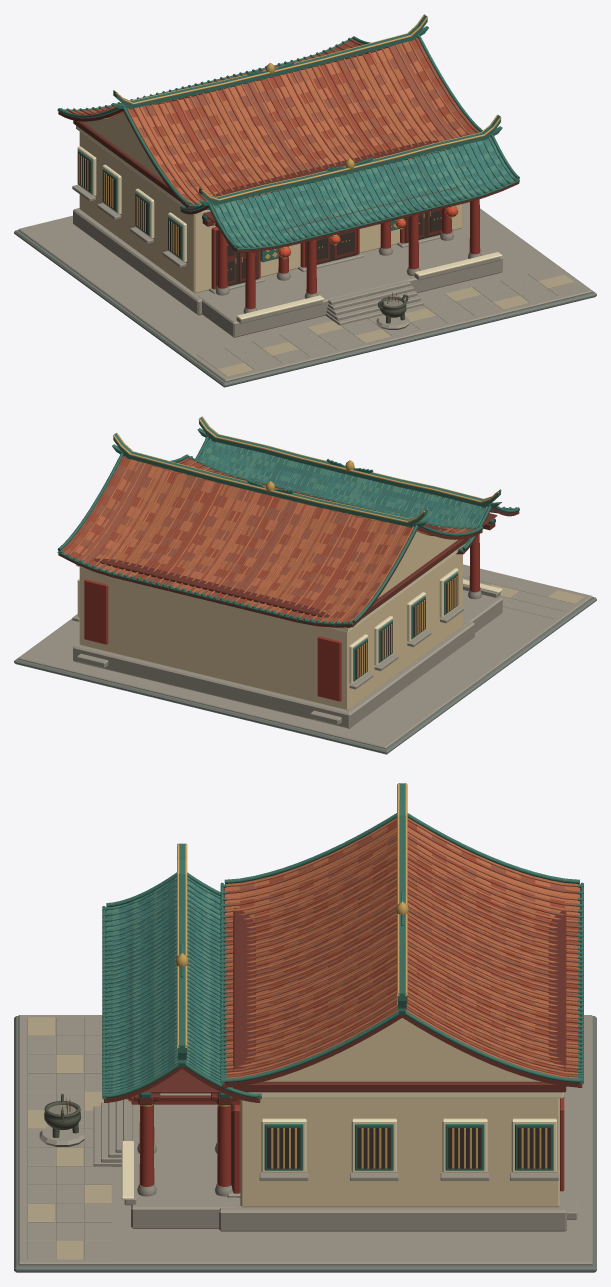
The picture shows the model from 3 angles, top to bottom: view 1: azimuth 30°, elevation 25°; view 2: azimuth 150°, elevation 25°; view 3: azimuth 270°, elevation 25°; orthographic projection. The views are drawn at different scales.
Parts seen in each view (by area): view 1: Swept Tile Roofs, Granite Threshold and Forecourt, Vermilion Front Pavilion, Main Shrine and Side Walls, Swallowtail Ridges, Incense Court, Lanterns and Relief Panels; view 2: Swept Tile Roofs, Main Shrine and Side Walls, Granite Threshold and Forecourt, Swallowtail Ridges, Vermilion Front Pavilion; view 3: Swept Tile Roofs, Main Shrine and Side Walls, Granite Threshold and Forecourt, Vermilion Front Pavilion, Swallowtail Ridges, Incense Court.
Boxes of the visible parts, x1,y1,x2,y2 form: Swept Tile Roofs: [57, 35, 519, 252]; Granite Threshold and Forecourt: [14, 202, 596, 387]; Vermilion Front Pavilion: [197, 185, 502, 337]; Main Shrine and Side Walls: [72, 107, 469, 315]; Swallowtail Ridges: [112, 14, 502, 205]; Incense Court: [376, 292, 409, 329]; Lanterns and Relief Panels: [227, 206, 458, 270]; Swept Tile Roofs: [57, 436, 519, 627]; Main Shrine and Side Walls: [72, 471, 474, 728]; Granite Threshold and Forecourt: [14, 564, 596, 754]; Swallowtail Ridges: [112, 416, 501, 527]; Vermilion Front Pavilion: [463, 513, 502, 632]; Swept Tile Roofs: [102, 813, 583, 1102]; Main Shrine and Side Walls: [219, 908, 577, 1231]; Granite Threshold and Forecourt: [14, 1015, 596, 1272]; Vermilion Front Pavilion: [121, 940, 240, 1228]; Swallowtail Ridges: [175, 783, 408, 1066]; Incense Court: [39, 1093, 85, 1146].
Bounding box in the file's own units: 19.2 × 9.16 × 18.72.
